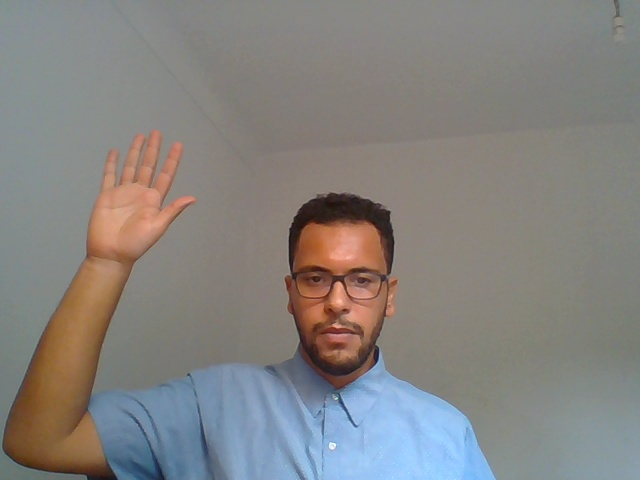hello: (37, 109, 225, 393)
